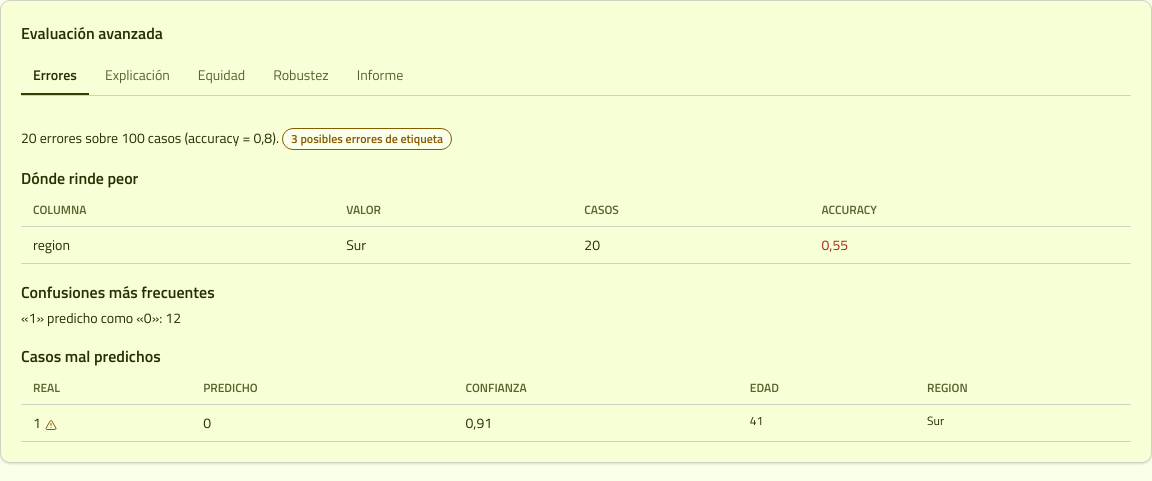
Test: evaluación avanzada (Capa 4b) › muestra errores y compara la equidad entre grupos
Check: the text "20 errores sobre 100 casos" is shown, box [21, 127, 279, 148]
Check: the text "3 posibles errores de etiqueta" is shown, box [282, 128, 452, 150]
Step 1. Click the tab "Equidad" → coordinates (221, 76), box [186, 57, 257, 95]
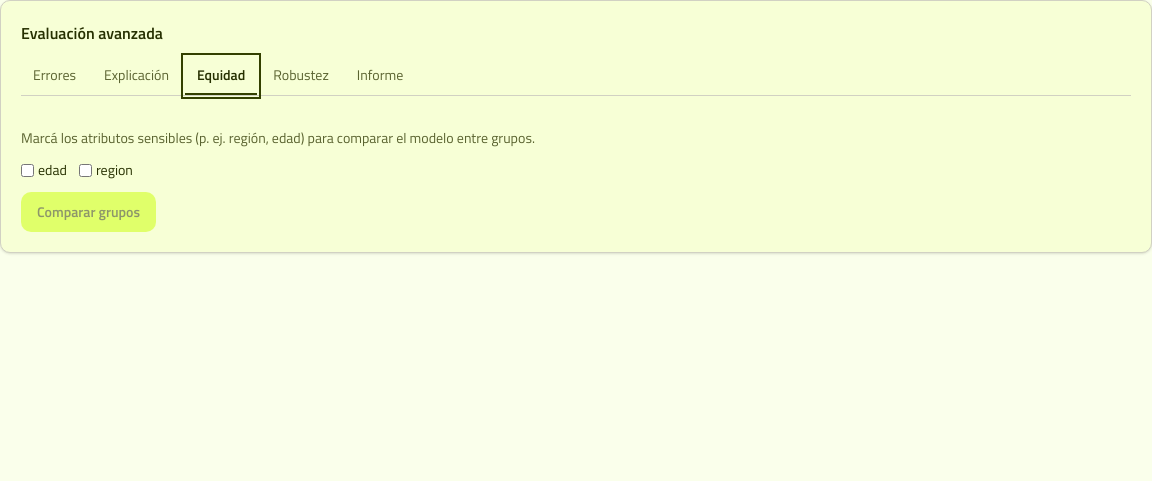
Step 2. Click the checkbox labelled "region" → coordinates (85, 170), box [79, 164, 92, 176]
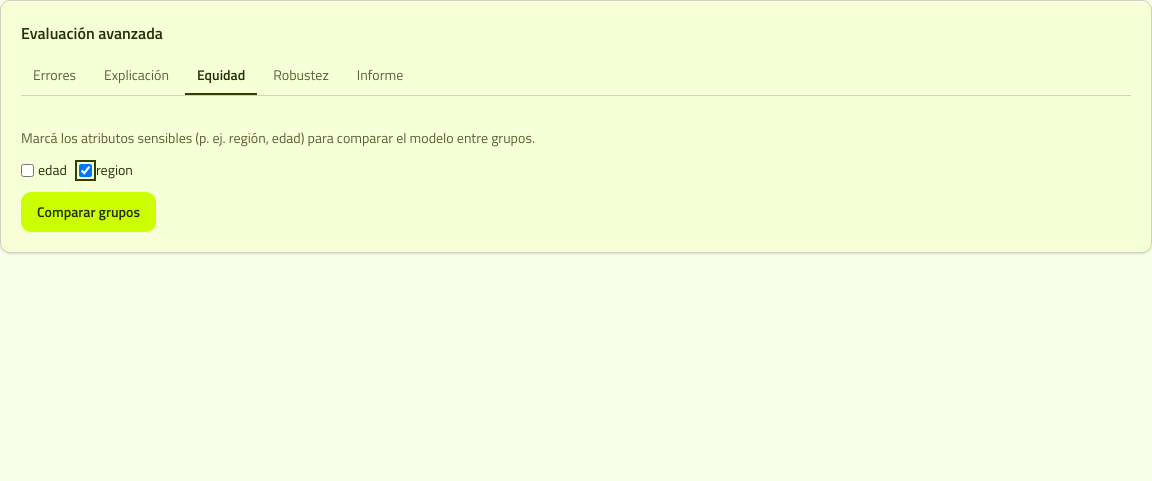
Step 3. Click the button "Comparar grupos" → coordinates (89, 212), box [21, 192, 156, 232]
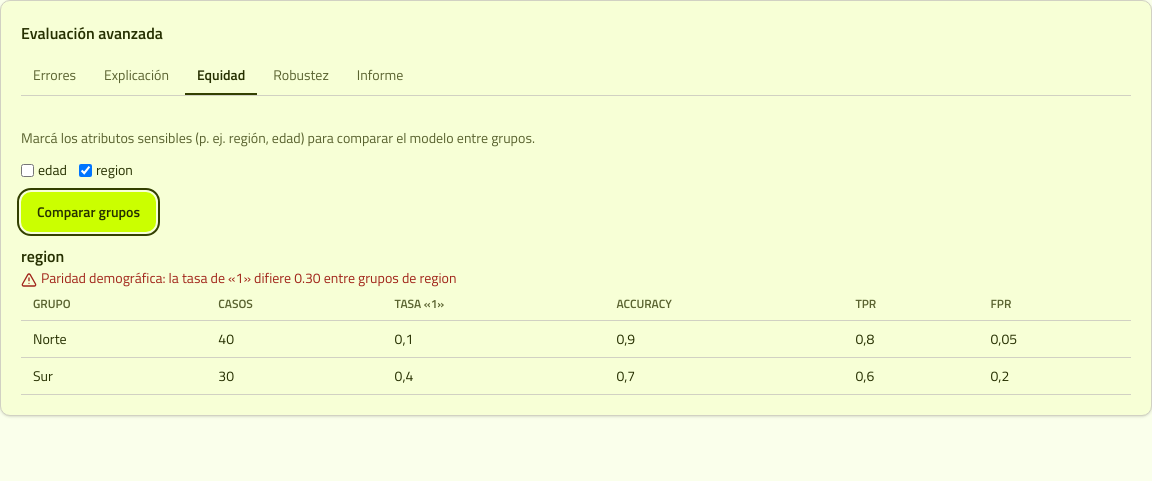
Check: the message shows "Paridad demográfica", box [41, 267, 456, 288]
Check: the text "Sur" is shown, box [21, 358, 206, 394]
